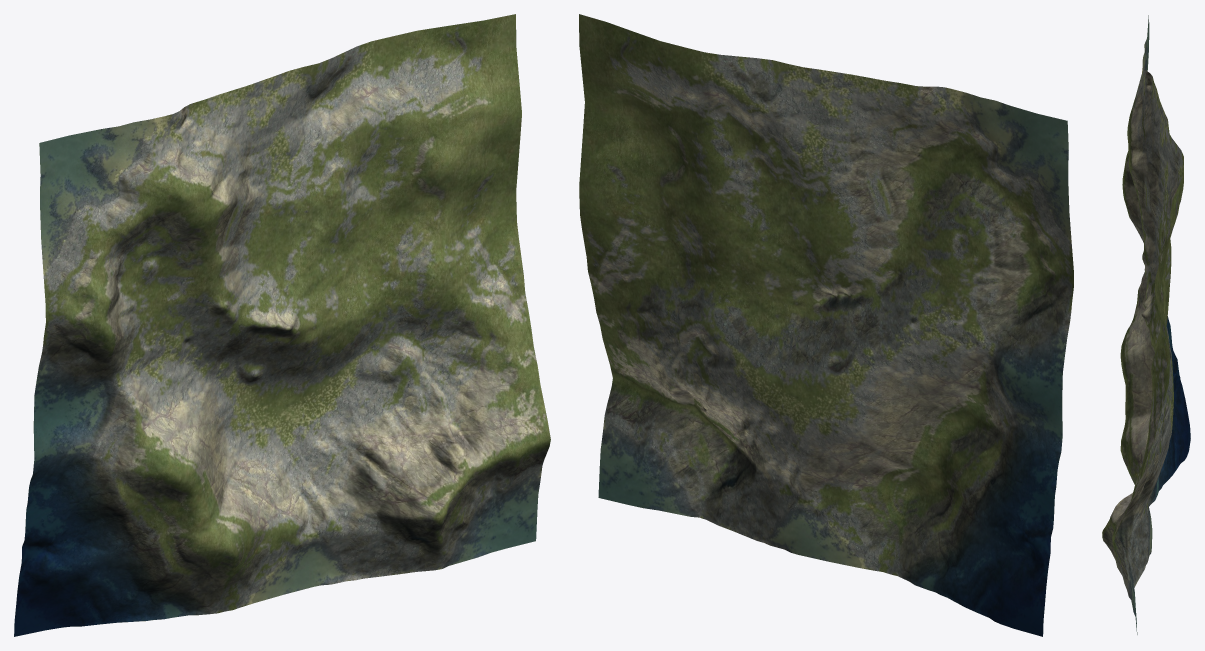
The model's file is Terrain.obj.
3 renders of one model, left to right at view 1: azimuth 30°, elevation 25°; view 2: azimuth 150°, elevation 25°; view 3: azimuth 270°, elevation 25°, orthographic. The views are drawn at different scales.
Parts seen in each view (by area): view 1: terrain_o; view 2: terrain_o; view 3: terrain_o.
Boxes of the visible parts, x1,y1,x2,y2 form: terrain_o: [14, 14, 550, 636]; terrain_o: [579, 14, 1073, 636]; terrain_o: [1102, 15, 1190, 634].
Bounding box in the file's own units: 511 × 511 × 96.69.
1 material, 1 textured.
